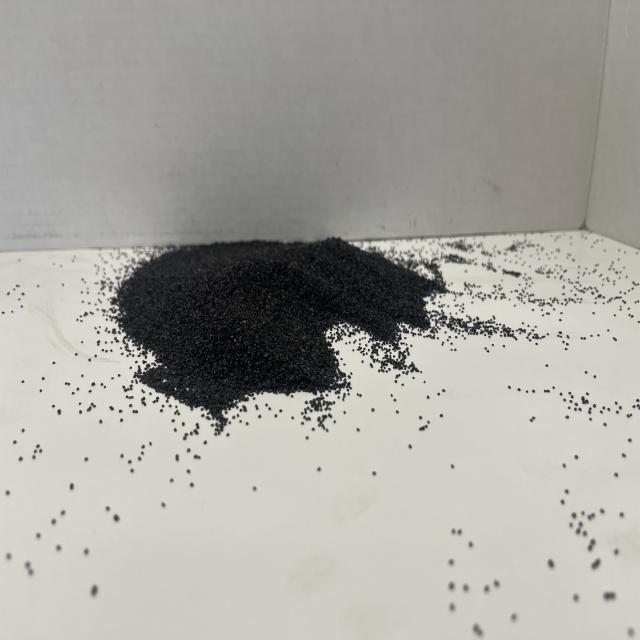Poppy Seeds: (98, 229, 440, 426)
